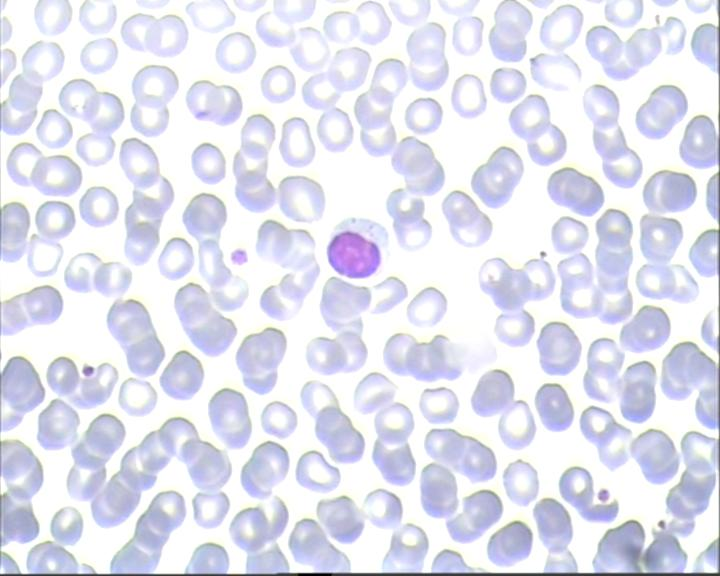lymp: (325, 215, 389, 284)
